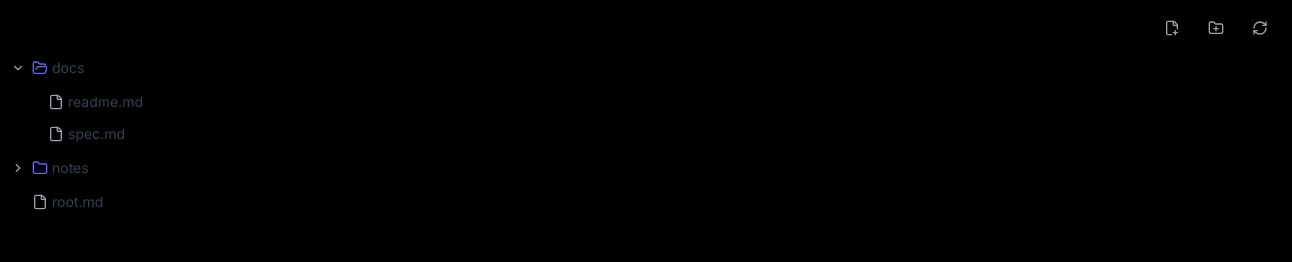
FileTree › rename › cancels rename on Escape
Step 1. Right-click the text "readme.md" → (96, 102), box [48, 93, 143, 110]
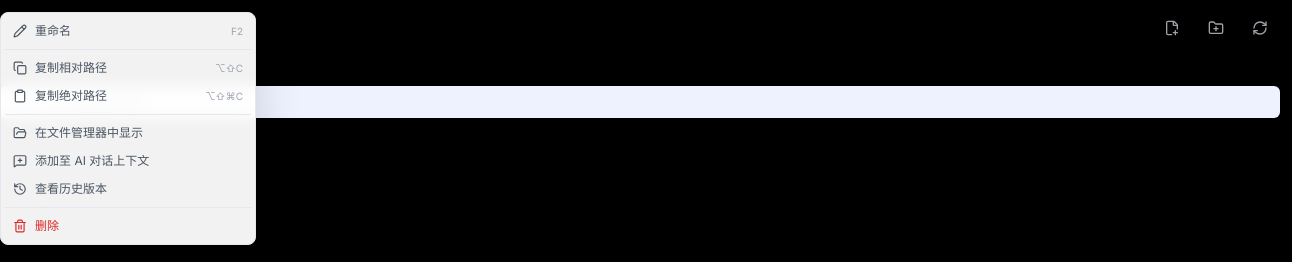
Step 2. Click the text "重命名" → (53, 30), box [35, 23, 71, 38]
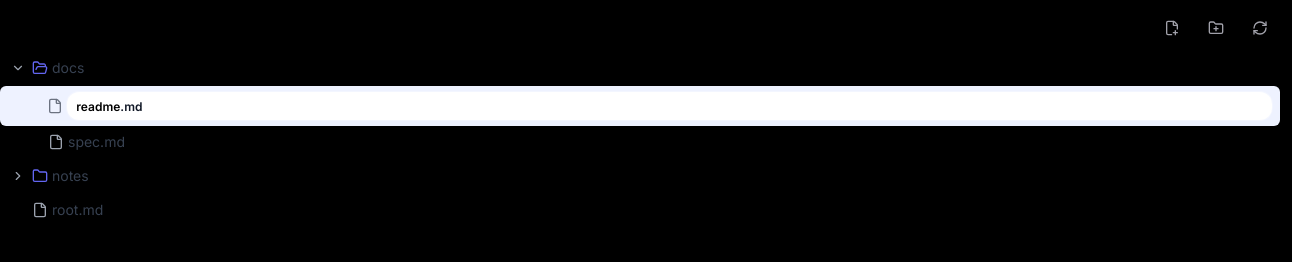
Step 3. Press Escape in the field, box [67, 92, 1272, 120]
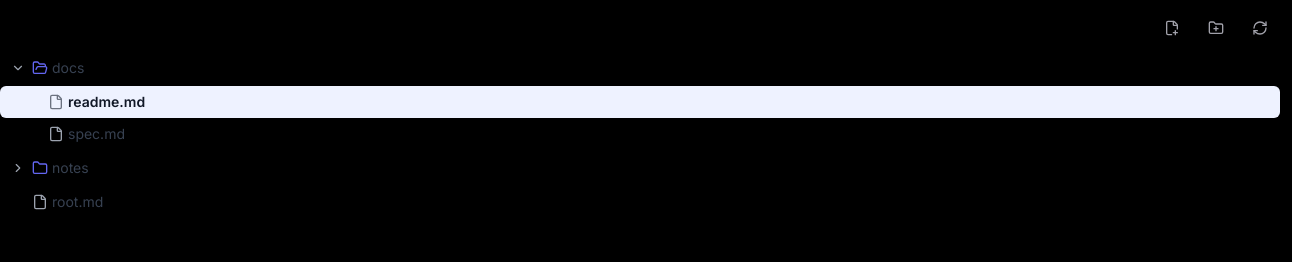
Expected: the field is gone
